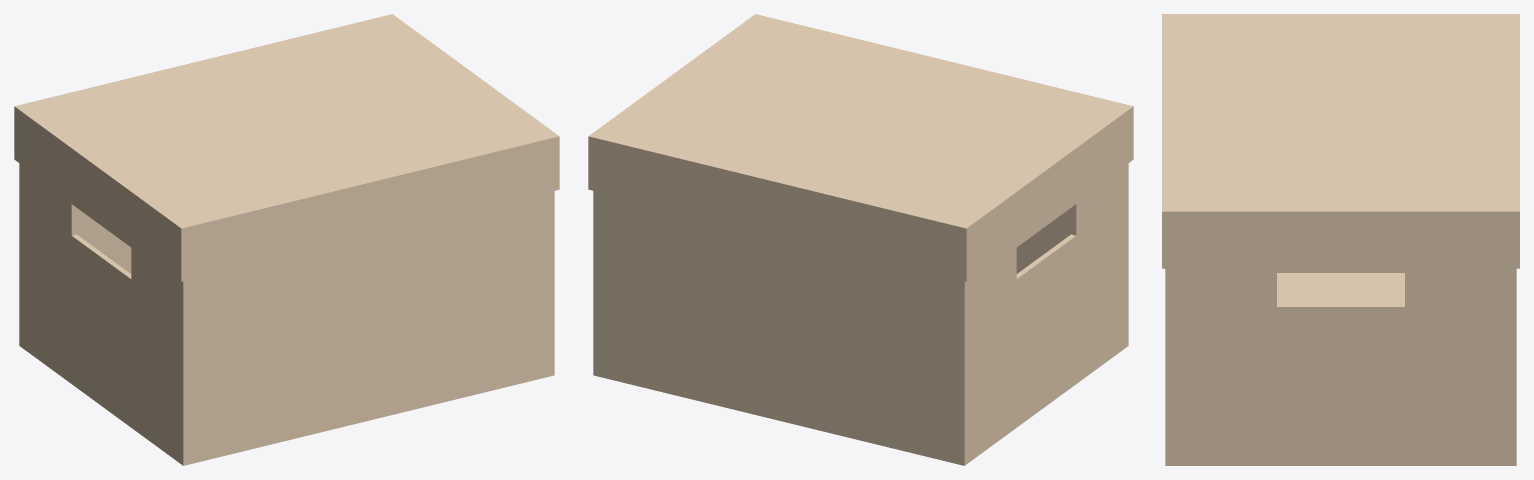
Rendered from SM_carton.fbx.
3 renders of one model, left to right at view 1: azimuth 30°, elevation 25°; view 2: azimuth 150°, elevation 25°; view 3: azimuth 270°, elevation 25°, orthographic. The views are drawn at different scales.
Visible parts, largest first — view 1: Box008; view 2: Box008; view 3: Box008.
Boxes of the visible parts, x1,y1,x2,y2 form: Box008: (14, 14, 559, 465); Box008: (588, 14, 1133, 465); Box008: (1162, 14, 1519, 465).
Bounding box in the file's own units: 24.22 × 14.65 × 18.54.
